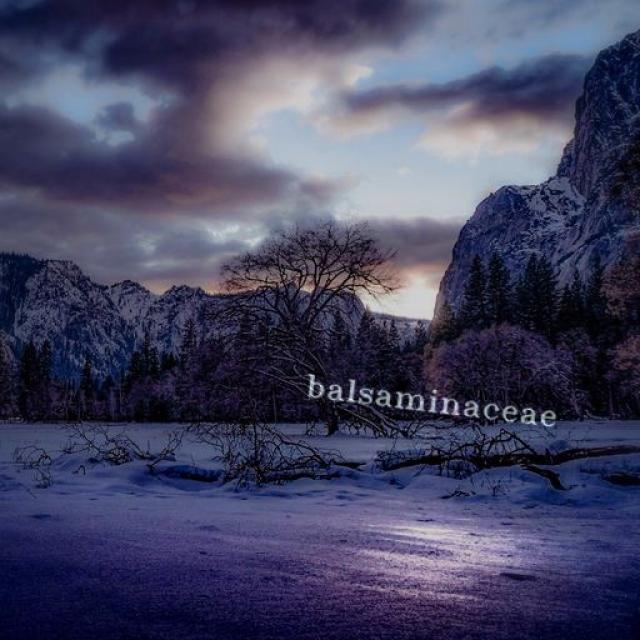watermark: (296, 371, 579, 432)
